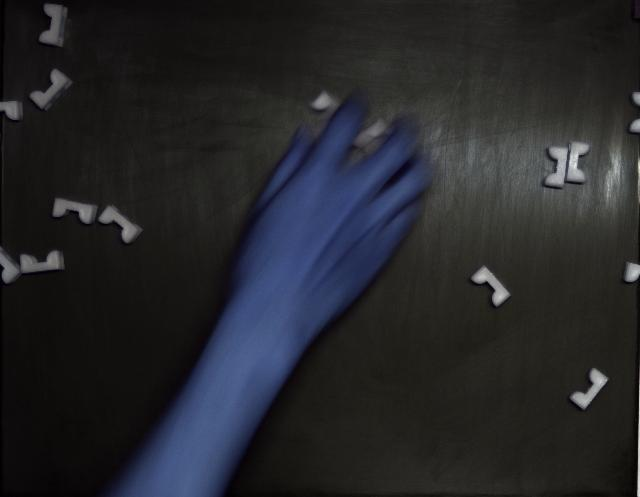third_side: (30, 69, 72, 110), (99, 205, 142, 244), (471, 266, 510, 308), (570, 369, 609, 410), (52, 198, 98, 225), (39, 4, 68, 46), (20, 250, 65, 274), (565, 141, 590, 184), (544, 146, 569, 189)
